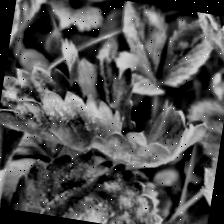Powdery Mildew Leaf: (0, 60, 132, 158), (88, 89, 208, 178), (48, 37, 150, 136)
